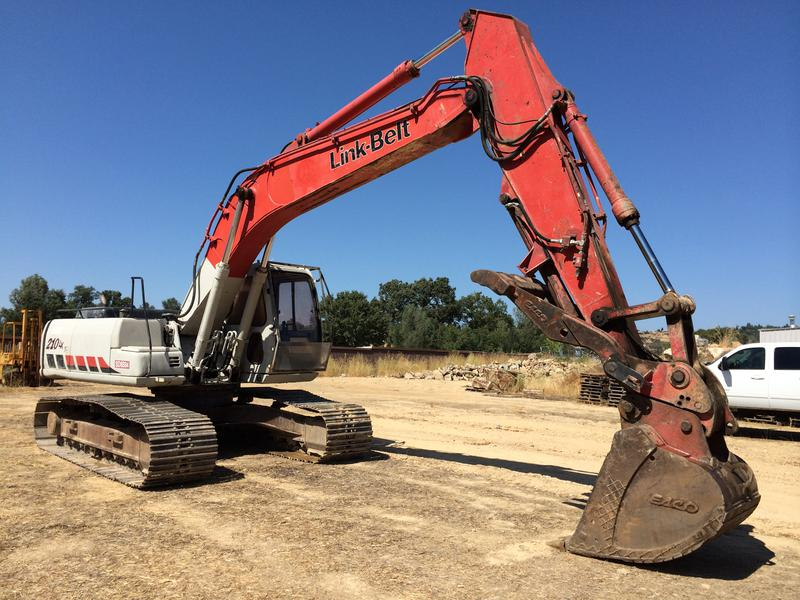shovel: (30, 9, 776, 567)
